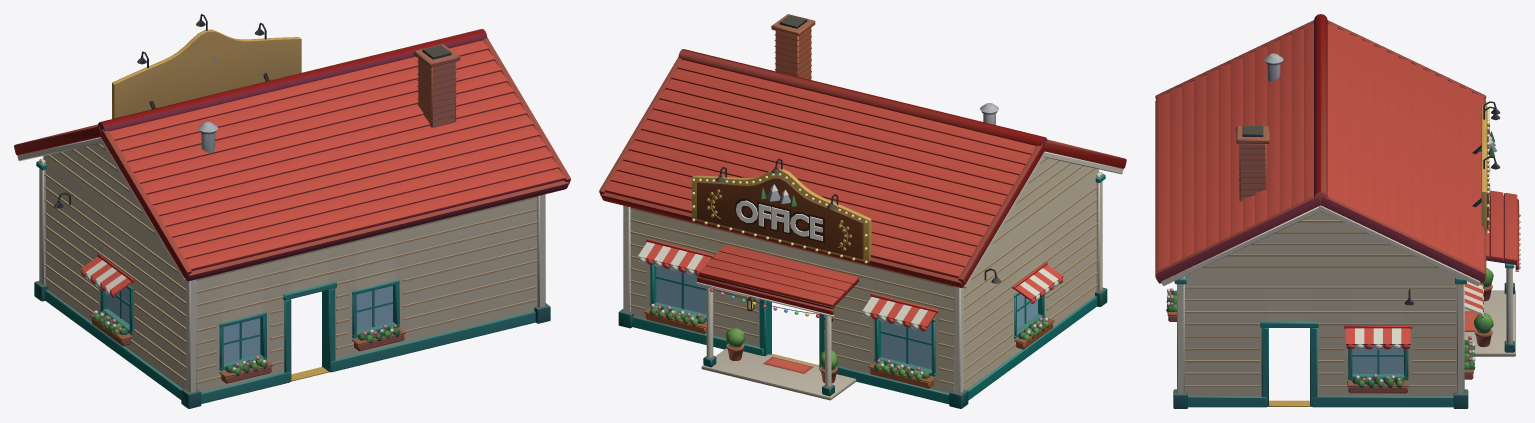
File: OfficeV2.fbx
3 views of the same model, side by side, from view 1: azimuth 30°, elevation 25°; view 2: azimuth 150°, elevation 25°; view 3: azimuth 270°, elevation 25° (orthographic). The views are drawn at different scales.
Parts seen in each view (by area): view 1: SM_Bld_OfficeV2_Roof, SM_Bld_OfficeV2_Walls, SM_Bld_OfficeV2_Trim, SM_Bld_OfficeV2_Sign, SM_Bld_OfficeV2_Glass, SM_Bld_OfficeV2_Flowers, SM_Bld_OfficeV2_Awning; view 2: SM_Bld_OfficeV2_Roof, SM_Bld_OfficeV2_Walls, SM_Bld_OfficeV2_Trim, SM_Bld_OfficeV2_Porch, SM_Bld_OfficeV2_Sign, SM_Bld_OfficeV2_Awning, SM_Bld_OfficeV2_Glass, SM_Bld_OfficeV2_Flowers, SM_Bld_OfficeV2_Glow; view 3: SM_Bld_OfficeV2_Roof, SM_Bld_OfficeV2_Walls, SM_Bld_OfficeV2_Trim, SM_Bld_OfficeV2_Porch, SM_Bld_OfficeV2_Awning, SM_Bld_OfficeV2_Flowers, SM_Bld_OfficeV2_Glass, SM_Bld_OfficeV2_Sign, SM_Bld_OfficeV2_Glow.
Part boxes in pixels (bbox=[...]): SM_Bld_OfficeV2_Roof: bbox=[14, 29, 570, 281]; SM_Bld_OfficeV2_Walls: bbox=[43, 143, 537, 392]; SM_Bld_OfficeV2_Trim: bbox=[17, 14, 550, 408]; SM_Bld_OfficeV2_Sign: bbox=[112, 29, 301, 118]; SM_Bld_OfficeV2_Glass: bbox=[107, 285, 392, 363]; SM_Bld_OfficeV2_Flowers: bbox=[90, 310, 406, 383]; SM_Bld_OfficeV2_Awning: bbox=[81, 254, 134, 297]; SM_Bld_OfficeV2_Roof: bbox=[599, 14, 1126, 287]; SM_Bld_OfficeV2_Walls: bbox=[630, 157, 1098, 392]; SM_Bld_OfficeV2_Trim: bbox=[618, 151, 1123, 408]; SM_Bld_OfficeV2_Porch: bbox=[696, 244, 859, 400]; SM_Bld_OfficeV2_Sign: bbox=[692, 168, 871, 262]; SM_Bld_OfficeV2_Awning: bbox=[638, 239, 1063, 331]; SM_Bld_OfficeV2_Glass: bbox=[656, 263, 1037, 369]; SM_Bld_OfficeV2_Flowers: bbox=[644, 304, 1054, 388]; SM_Bld_OfficeV2_Glow: bbox=[692, 173, 996, 317]; SM_Bld_OfficeV2_Roof: bbox=[1155, 14, 1486, 283]; SM_Bld_OfficeV2_Walls: bbox=[1184, 211, 1456, 396]; SM_Bld_OfficeV2_Trim: bbox=[1161, 101, 1500, 408]; SM_Bld_OfficeV2_Porch: bbox=[1464, 190, 1519, 356]; SM_Bld_OfficeV2_Awning: bbox=[1344, 281, 1483, 349]; SM_Bld_OfficeV2_Flowers: bbox=[1166, 288, 1475, 393]; SM_Bld_OfficeV2_Glass: bbox=[1352, 345, 1403, 373]; SM_Bld_OfficeV2_Sign: bbox=[1472, 104, 1496, 233]; SM_Bld_OfficeV2_Glow: bbox=[1408, 106, 1520, 305].
Bounding box in the file's own units: 41.25 × 25.95 × 35.01.
